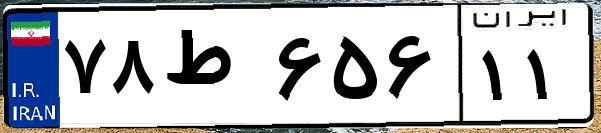1: (475, 38, 525, 113), (525, 38, 570, 115)
5: (330, 28, 385, 110)
6: (270, 28, 330, 110), (385, 28, 445, 110)
7: (57, 26, 110, 100)
8: (110, 28, 158, 98)
ط: (158, 20, 270, 120)
